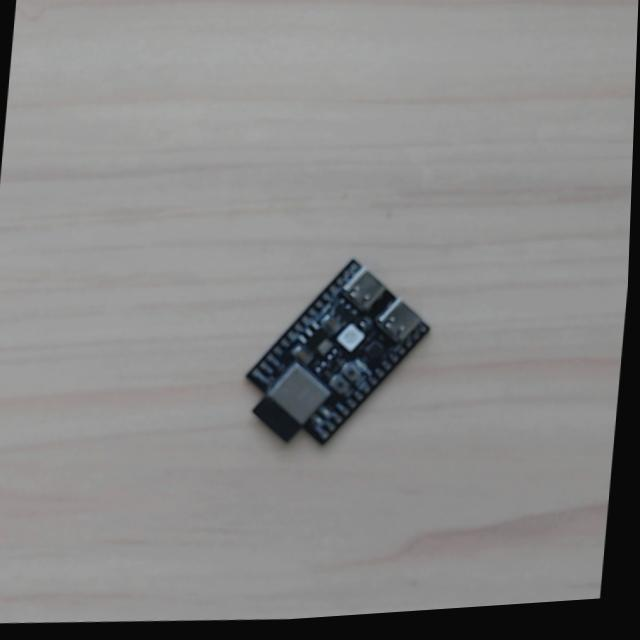ESP32C3-DevKit: (230, 258, 432, 465)
